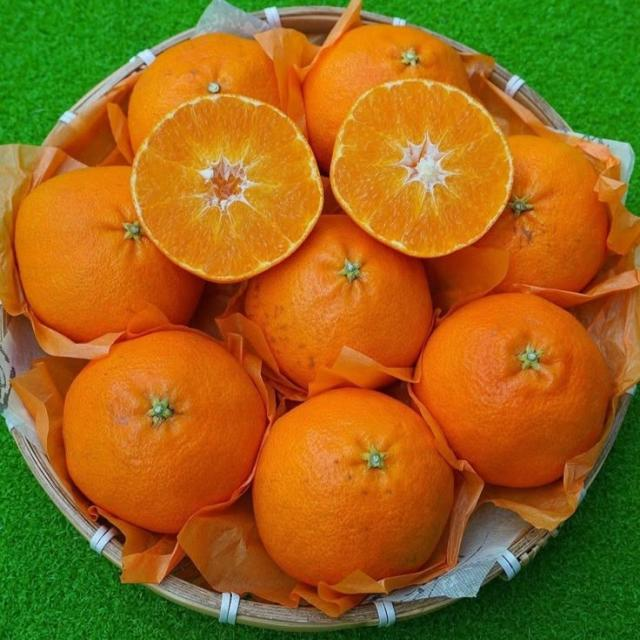orange: (63, 331, 266, 532), (253, 389, 453, 584), (414, 294, 611, 486), (132, 94, 323, 281), (15, 167, 203, 341), (331, 80, 513, 257), (245, 215, 432, 386), (303, 25, 469, 172), (477, 136, 608, 291), (128, 34, 279, 149)
